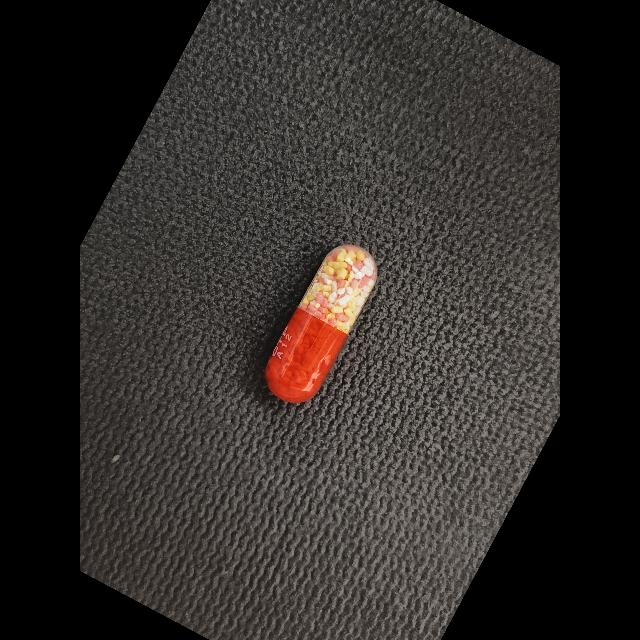Intact Capsule: (265, 245, 377, 403)
